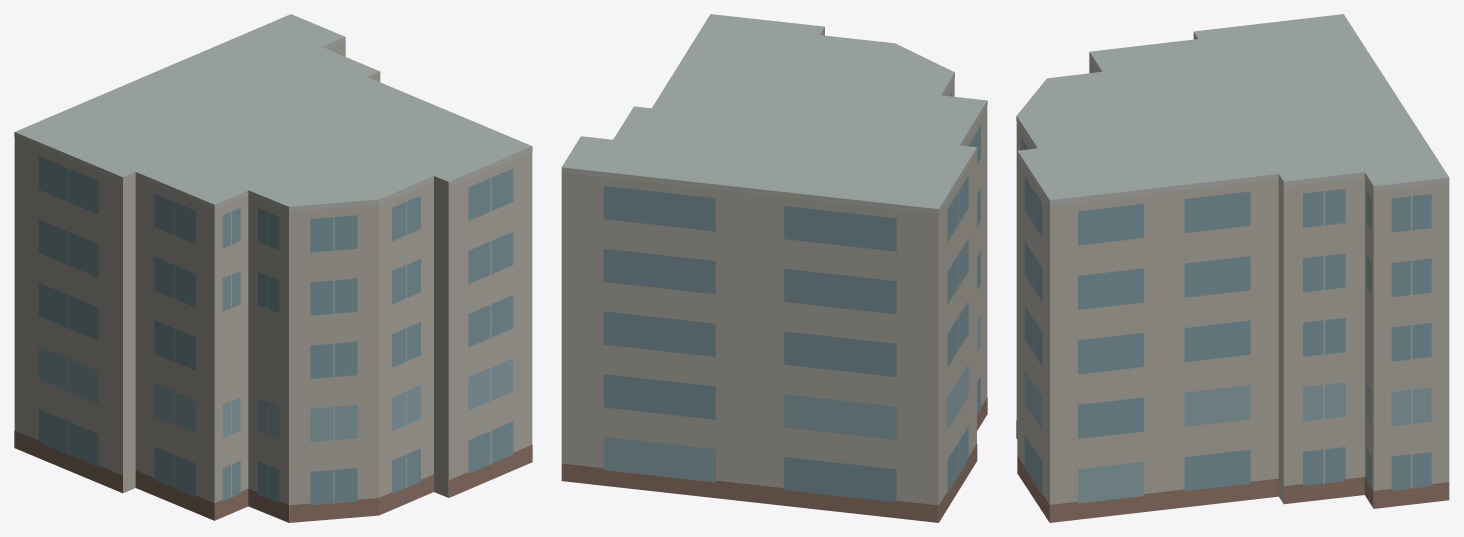
Rendered from survey-upis-32891964.glb.
3 views of the same model, side by side, from view 1: azimuth 30°, elevation 25°; view 2: azimuth 150°, elevation 25°; view 3: azimuth 270°, elevation 25° (orthographic). The views are drawn at different scales.
Visible parts, largest first — view 1: survey-upis-32891964.tmp; view 2: survey-upis-32891964.tmp; view 3: survey-upis-32891964.tmp.
Part boxes in pixels (x1,y1,x2,y2): survey-upis-32891964.tmp: (14,14,532,522); survey-upis-32891964.tmp: (561,14,987,522); survey-upis-32891964.tmp: (1016,14,1449,522).
Bounding box in the file's own units: 18.77 × 15.15 × 18.43.
